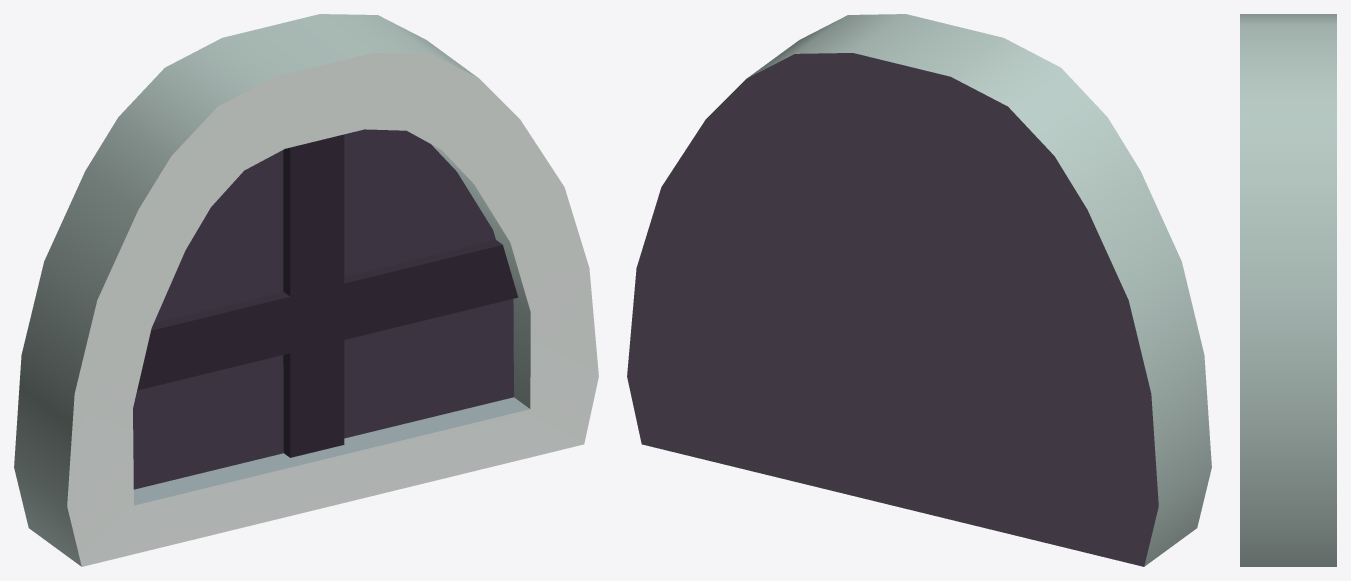
File: Window03_White_Black.glb
3 views of the same model, side by side, from view 1: azimuth 30°, elevation 25°; view 2: azimuth 150°, elevation 25°; view 3: azimuth 270°, elevation 25° (orthographic). The views are drawn at different scales.
Visible parts, largest first — view 1: Window03_White_Black; view 2: Window03_White_Black; view 3: Window03_White_Black.
Boxes of the visible parts, box(x1,y1,x2,y2) form: Window03_White_Black: box(14, 14, 598, 566); Window03_White_Black: box(627, 14, 1211, 566); Window03_White_Black: box(1240, 14, 1336, 566).
Bounding box in the file's own units: 0.9047 × 0.7203 × 0.1565.
1 material, 1 textured.
